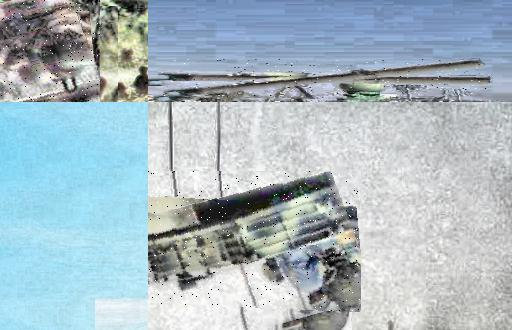tanks: (149, 172, 361, 312), (161, 60, 487, 99), (1, 1, 101, 103), (149, 97, 206, 103), (207, 96, 236, 103)
